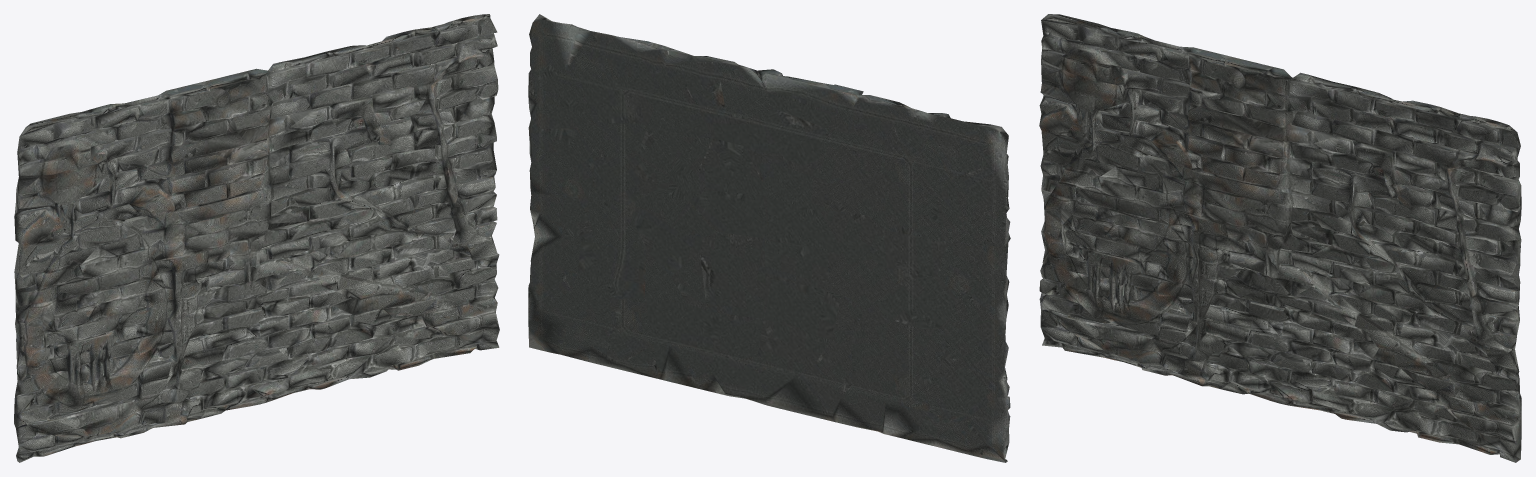
File: aura_hoops_3d_blacktopMuralWall.9714f337.glb
3 views of the same model, side by side, from view 1: azimuth 30°, elevation 25°; view 2: azimuth 150°, elevation 25°; view 3: azimuth 330°, elevation 25° (orthographic).
Size of the model in its own units: 1.9 by 1.26 by 0.0444.
1 material, 1 textured.
